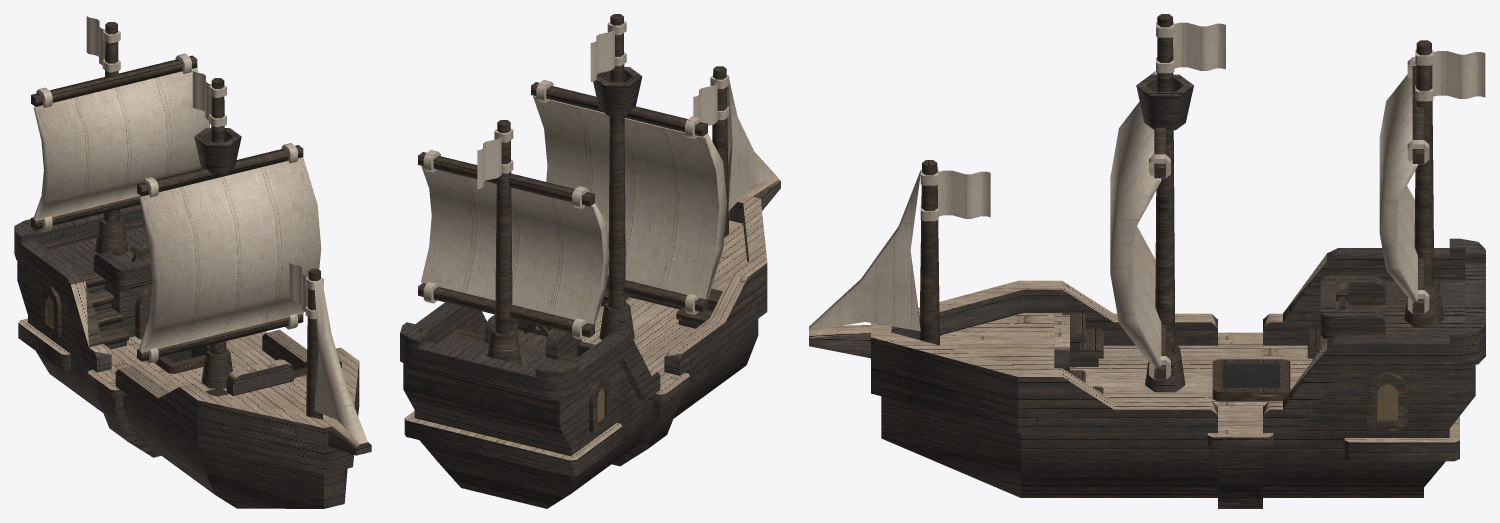
The model's file is caravel.glb.
3 renders of one model, left to right at view 1: azimuth 30°, elevation 25°; view 2: azimuth 150°, elevation 25°; view 3: azimuth 270°, elevation 25°, orthographic. The views are drawn at different scales.
Parts seen in each view (by area): view 1: ship-large; view 2: ship-large; view 3: ship-large.
Boxes of the visible parts, x1,y1,x2,y2 form: ship-large: [14, 16, 371, 508]; ship-large: [400, 14, 780, 508]; ship-large: [809, 14, 1485, 508].
Size of the model in its own units: 4.8 by 9.96 by 13.1.
6 materials, 6 textured.
